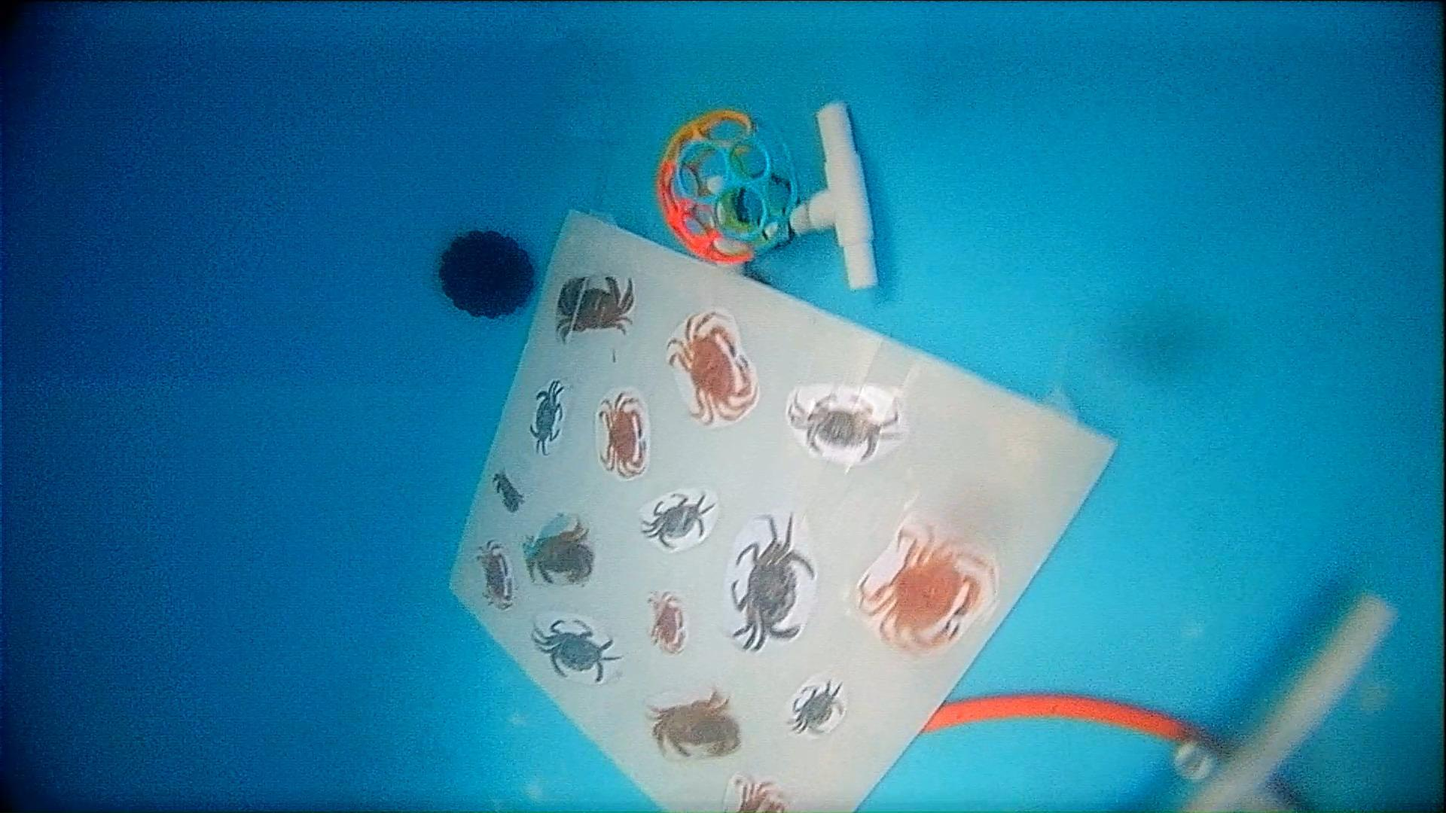GreenCrab: (730, 515, 815, 650), (789, 394, 898, 460), (534, 620, 620, 682), (642, 493, 712, 549), (529, 379, 566, 455), (793, 681, 841, 732)
